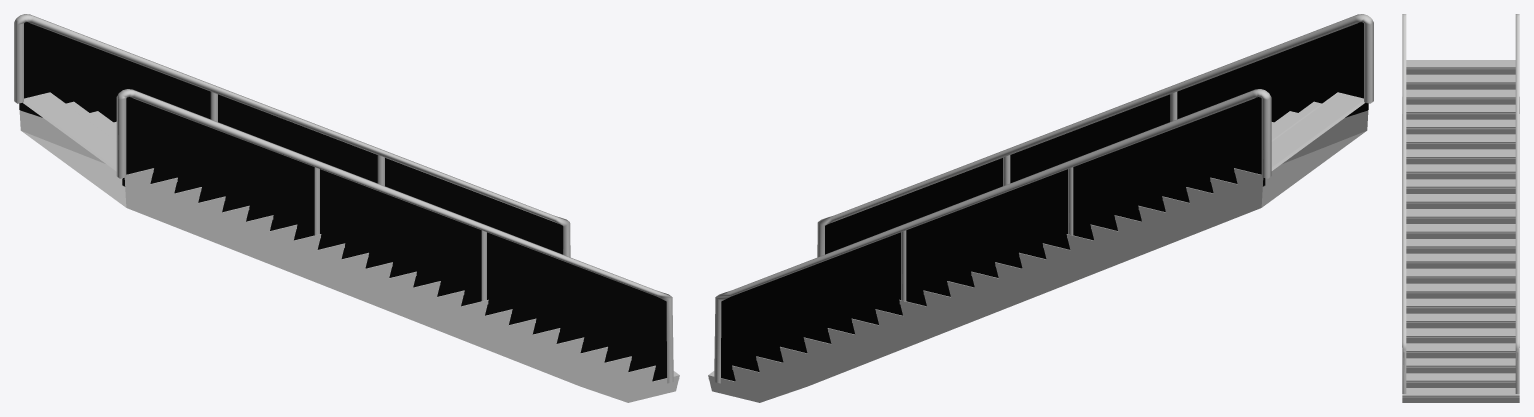
The model's file is Regular Stair.fbx.
The picture shows the model from 3 angles, left to right: view 1: azimuth 30°, elevation 25°; view 2: azimuth 150°, elevation 25°; view 3: azimuth 270°, elevation 25°; orthographic projection. The views are drawn at different scales.
Visible parts, largest first — view 1: Regular_Stair_L0, Regular_Stair; view 2: Regular_Stair_L0, Regular_Stair; view 3: Regular_Stair_L0, Regular_Stair.
Part boxes in pixels (x1,y1,x2,y2): Regular_Stair_L0: [14, 14, 679, 402]; Regular_Stair: [19, 22, 679, 402]; Regular_Stair_L0: [708, 14, 1373, 402]; Regular_Stair: [708, 22, 1368, 402]; Regular_Stair_L0: [1402, 14, 1519, 402]; Regular_Stair: [1402, 60, 1519, 397].
Bounding box in the file's own units: 23.43 × 17.33 × 7.69.
